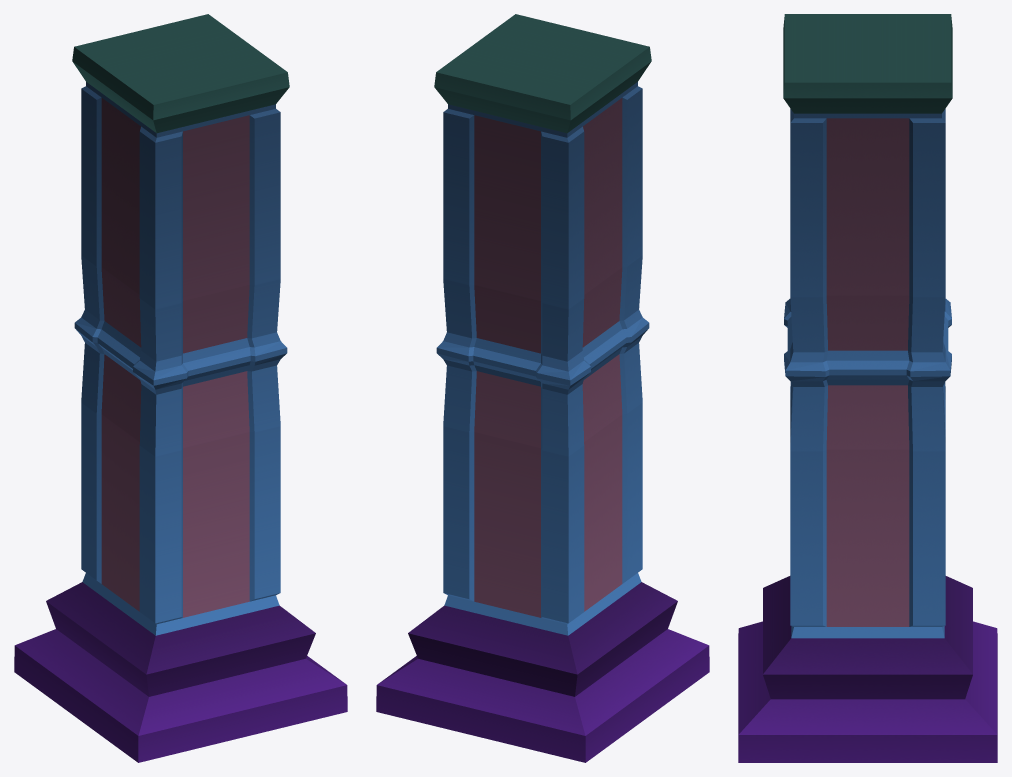
File: Pillar2.FBX
The picture shows the model from 3 angles, left to right: view 1: azimuth 30°, elevation 25°; view 2: azimuth 150°, elevation 25°; view 3: azimuth 270°, elevation 25°; orthographic projection. The views are drawn at different scales.
Parts seen in each view (by area): view 1: Pillar 2; view 2: Pillar 2; view 3: Pillar 2.
Boxes of the visible parts, x1,y1,x2,y2 form: Pillar 2: [14, 14, 347, 762]; Pillar 2: [376, 14, 709, 762]; Pillar 2: [738, 14, 997, 762].
Bounding box in the file's own units: 10.59 × 30.59 × 10.88.
Materials: 1 (1 with a texture image).
